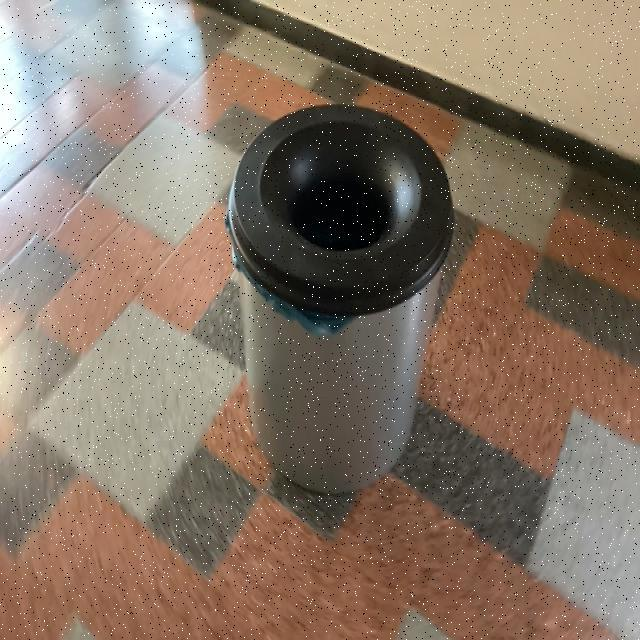garbage container: (212, 64, 475, 509)
